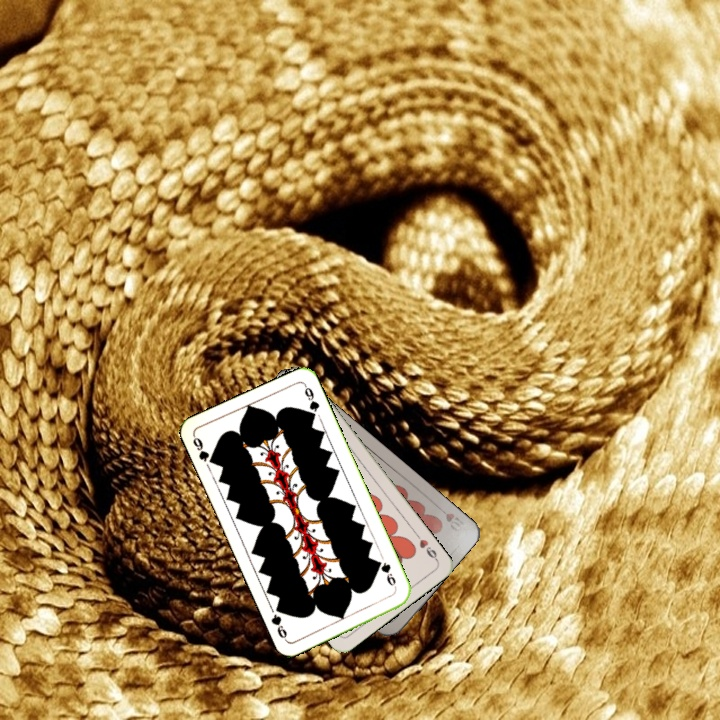G9: (189, 432, 218, 467), (373, 556, 399, 593)
H10: (441, 509, 464, 535)
H9: (411, 529, 441, 564)
